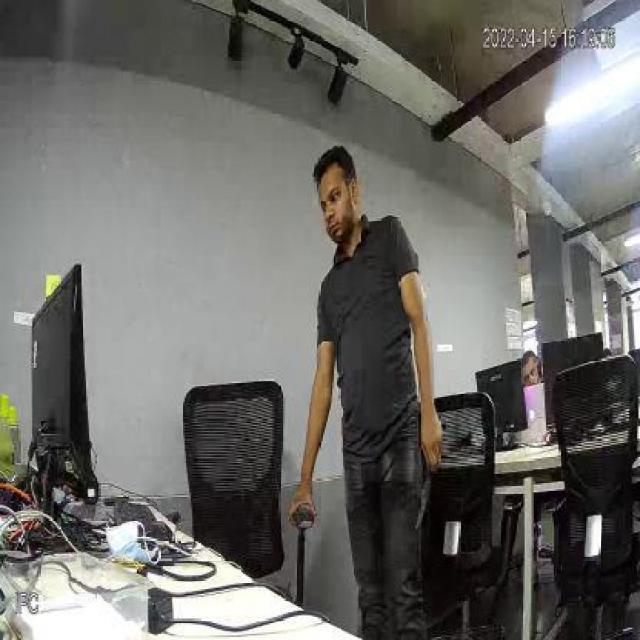-: (415, 471, 434, 532)
